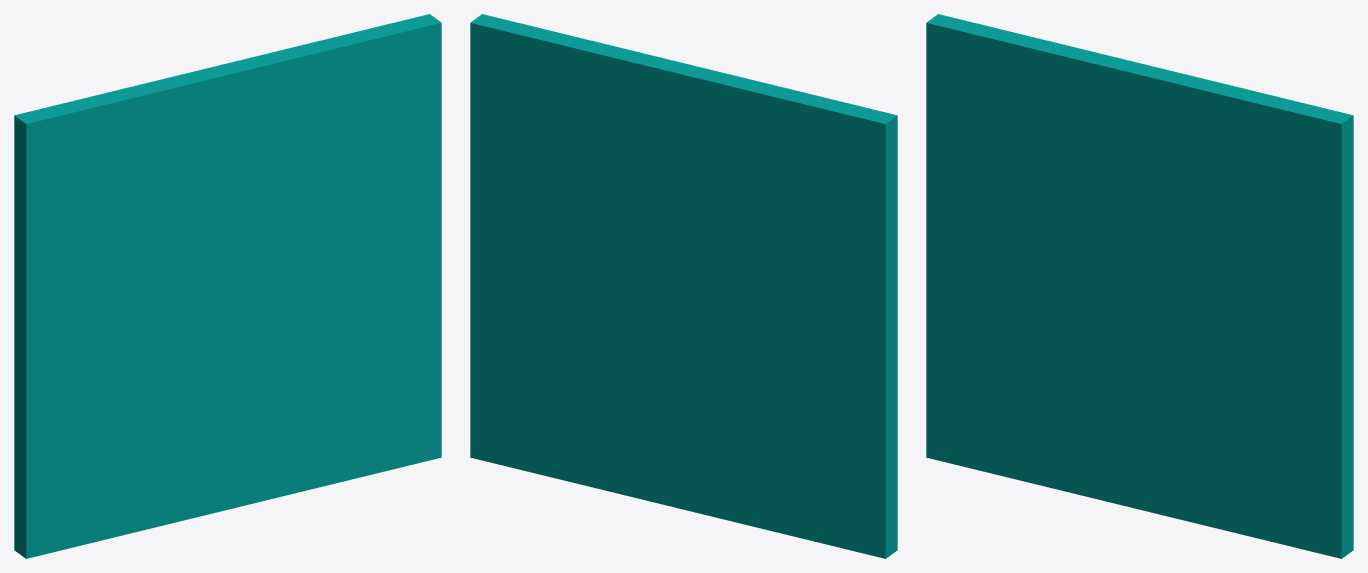
The model's file is En_W_wall.fbx.
The picture shows the model from 3 angles, left to right: view 1: azimuth 30°, elevation 25°; view 2: azimuth 150°, elevation 25°; view 3: azimuth 330°, elevation 25°; orthographic projection.
Parts seen in each view (by area): view 1: En_W_wall; view 2: En_W_wall; view 3: En_W_wall.
Part boxes in pixels (x1,y1,x2,y2): En_W_wall: [14, 14, 441, 558]; En_W_wall: [470, 14, 897, 558]; En_W_wall: [926, 14, 1353, 558].
Bounding box in the file's own units: 400 × 400 × 20.
